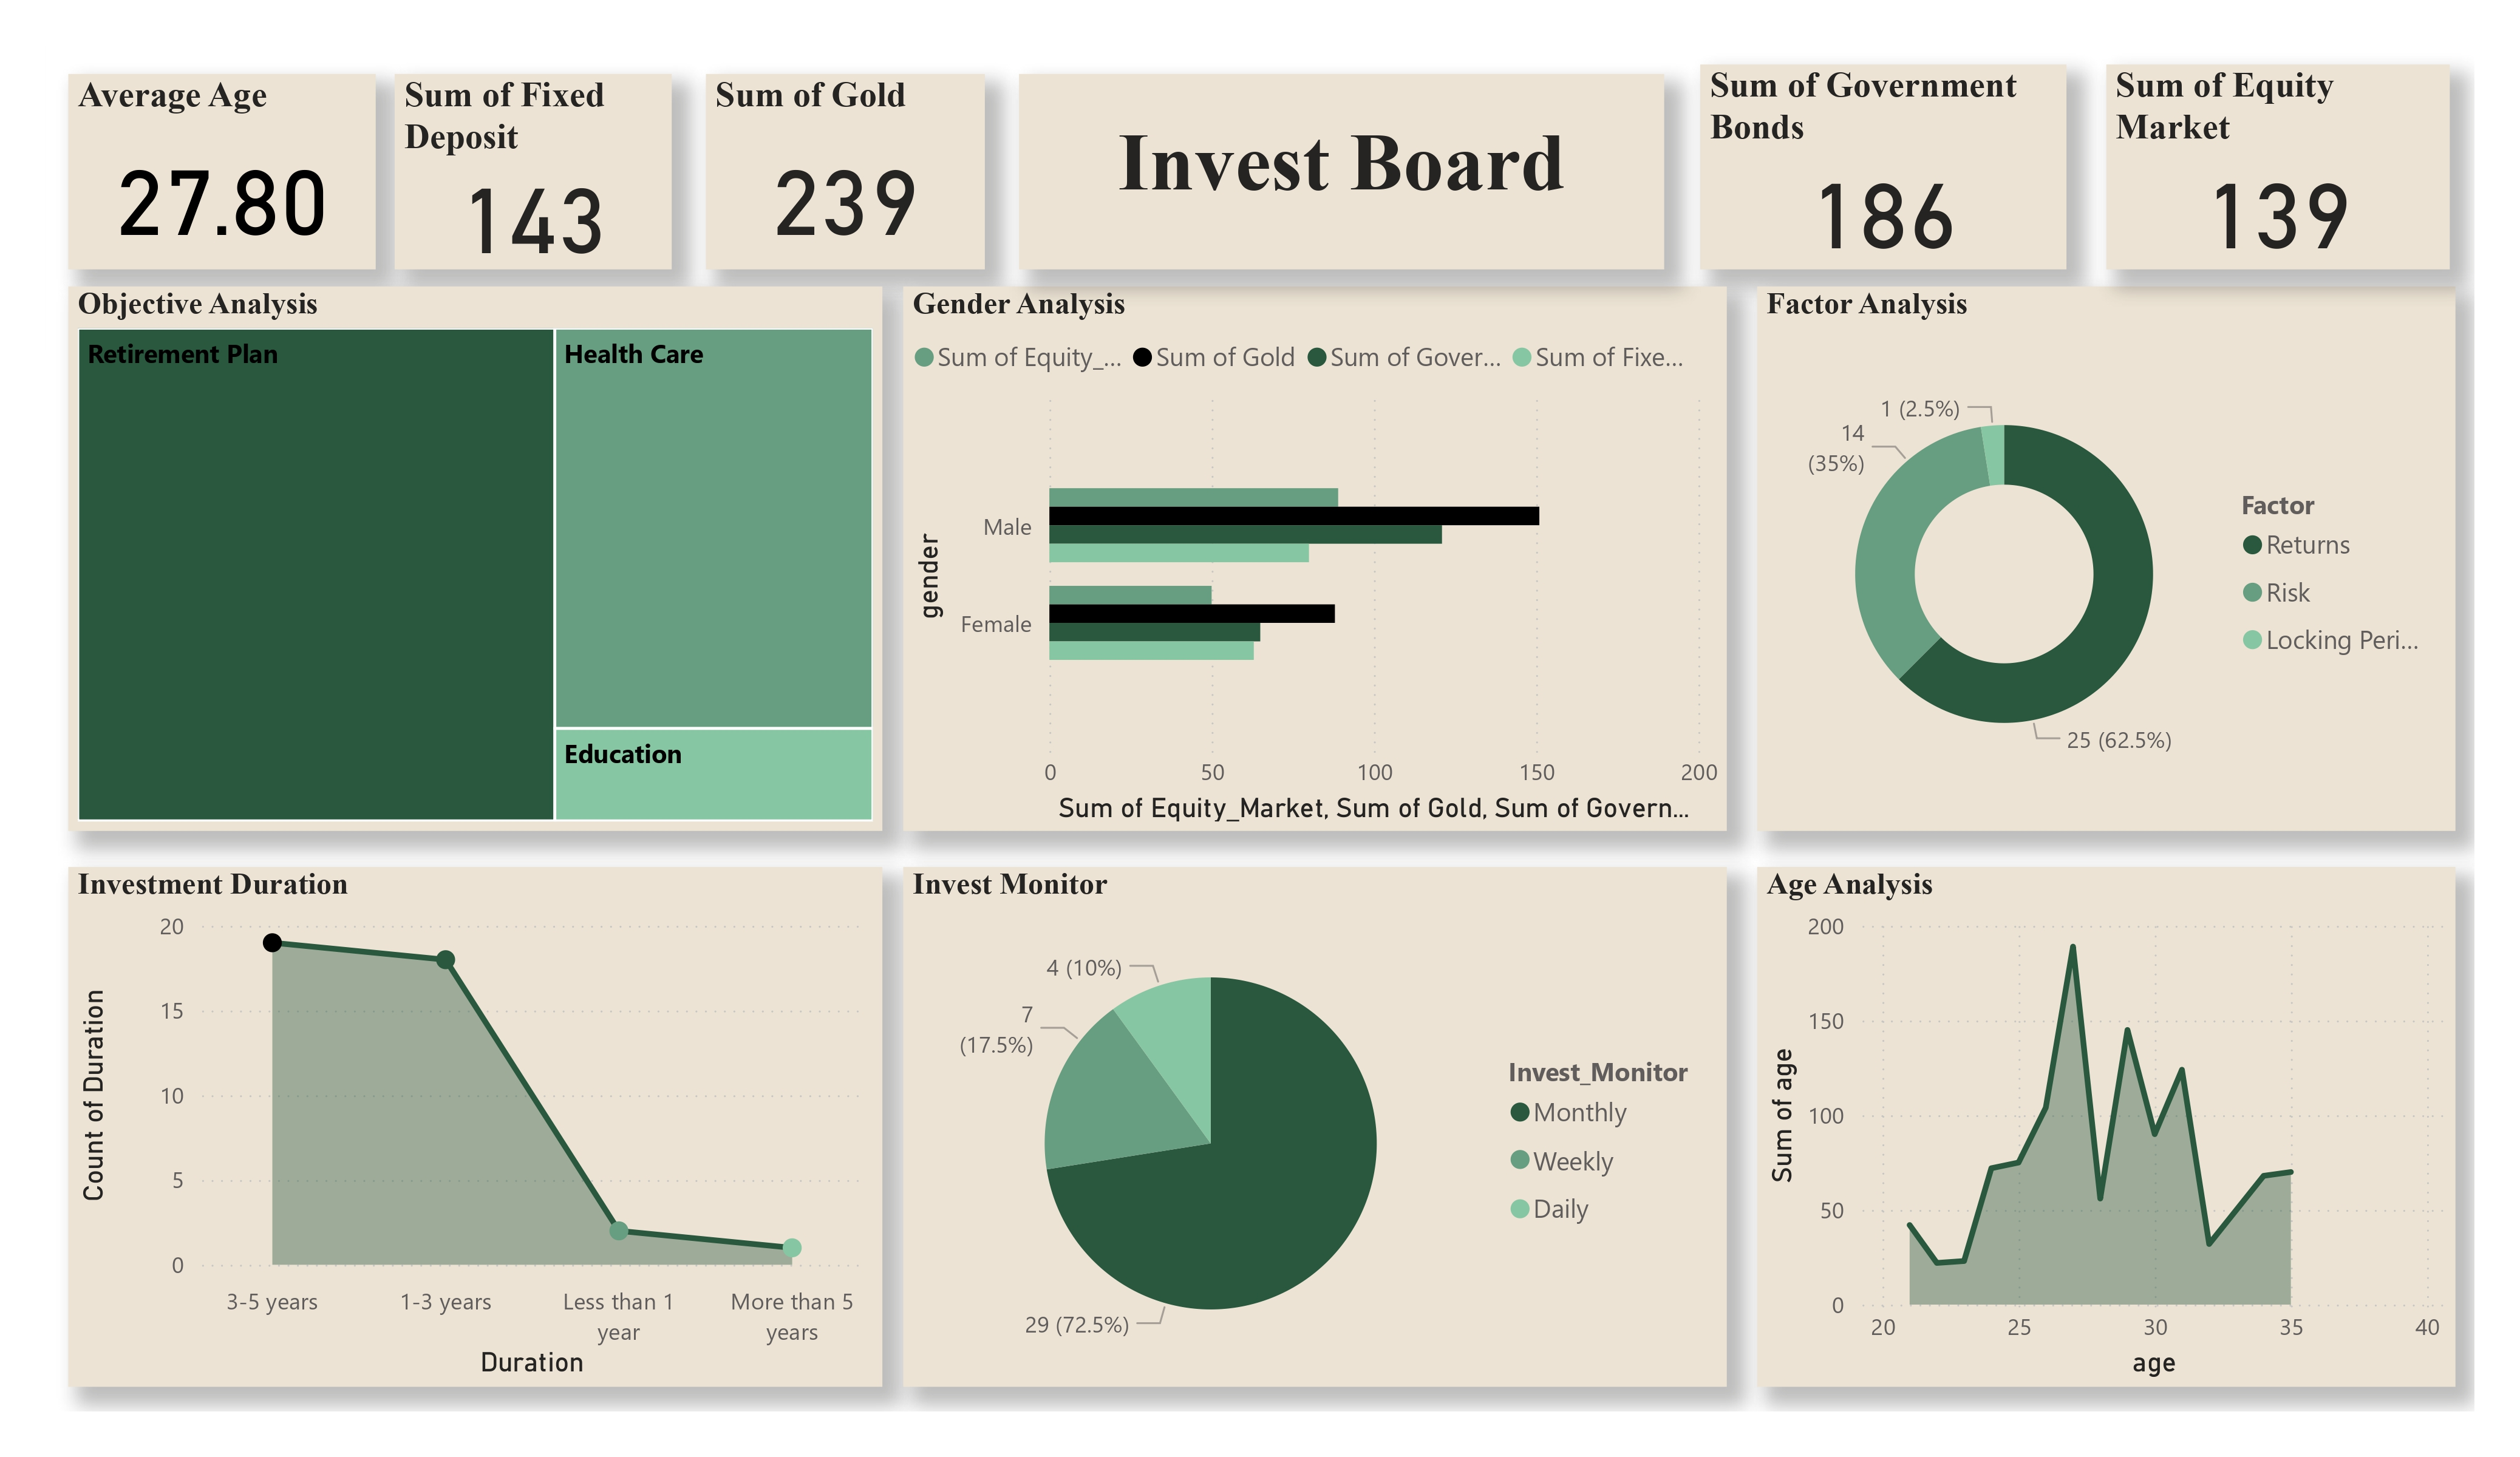

What the dashboard file says about the page in this screenshot:
{"tool":"powerbi","page":{"name":"Dashboard","canvas":[1280,720],"ordinal":0},"visuals":[{"type":"card","title":"Average Age","fields":{"Values":["Customer Data.Average Age"]},"box":[11.7,14.6,162.2,103.8],"z":0},{"type":"card","title":"Sum of Fixed Deposit","fields":{"Values":["Sum(Customer Data.Fixed_Deposits)"]},"box":[184.1,14.6,146.1,103.8],"z":1000},{"type":"card","title":"Sum of Government Bonds","fields":{"Values":["Sum(Customer Data.Government_Bonds)"]},"box":[872.5,10.2,192.9,108.1],"z":2000},{"type":"card","title":"Sum of Gold","fields":{"Values":["Sum(Customer Data.Gold)"]},"box":[347.8,14.6,147.6,103.8],"z":3000},{"type":"treemap","title":"Objective Analysis","fields":{"Group":["Customer Data.What are your savings objectives?"],"Values":["CountNonNull(Customer Data.What are your savings objectives?)"]},"box":[11.7,140,430,273.3],"z":4000},{"type":"clusteredBarChart","title":"Gender Analysis ","fields":{"Y":["Sum(Customer Data.Equity_Market)","Sum(Customer Data.Gold)","Sum(Customer Data.Government_Bonds)","Sum(Customer Data.Fixed_Deposits)"],"Category":["Customer Data.gender"]},"box":[451.7,140,433.3,273.3],"z":5000},{"type":"areaChart","title":"Investment Duration","fields":{"Category":["Customer Data.Duration"],"Y":["CountNonNull(Customer Data.Duration)"]},"box":[11.7,432.6,429.7,274.8],"z":6000},{"type":"pieChart","title":"Invest Monitor","fields":{"Category":["Customer Data.Invest_Monitor"],"Y":["CountNonNull(Customer Data.Invest_Monitor)"]},"box":[451.6,432.6,434.1,274.8],"z":7000},{"type":"areaChart","title":"Age Analysis","fields":{"Category":["Customer Data.age"],"Y":["Sum(Customer Data.age)"]},"box":[901.7,432.6,368.3,274.8],"z":8000},{"type":"donutChart","title":"Factor Analysis","fields":{"Category":["Customer Data.Factor"],"Y":["CountNonNull(Customer Data.Factor)"]},"box":[901.7,140,368.3,273.3],"z":9000},{"type":"card","title":"Sum of Equity Market","fields":{"Values":["Sum(Customer Data.Equity_Market)"]},"box":[1085.9,10.2,181.2,108.1],"z":10000},{"type":"textbox","box":[513,14.6,340.5,103.8],"z":11000}]}

Visuals, with their boxes in screenshot pixels (x1, y1, x2, y2):
"Average Age" card: locate(68, 73, 375, 270)
"Sum of Fixed Deposit" card: locate(395, 73, 672, 270)
"Sum of Government Bonds" card: locate(1701, 65, 2067, 270)
"Sum of Gold" card: locate(706, 73, 986, 270)
"Objective Analysis" treemap: locate(68, 311, 884, 830)
"Gender Analysis " clusteredBarChart: locate(903, 311, 1725, 830)
"Investment Duration" areaChart: locate(68, 866, 883, 1388)
"Invest Monitor" pieChart: locate(902, 866, 1726, 1388)
"Age Analysis" areaChart: locate(1757, 866, 2456, 1388)
"Factor Analysis" donutChart: locate(1757, 311, 2456, 830)
"Sum of Equity Market" card: locate(2106, 65, 2450, 270)
textbox: locate(1019, 73, 1665, 270)
